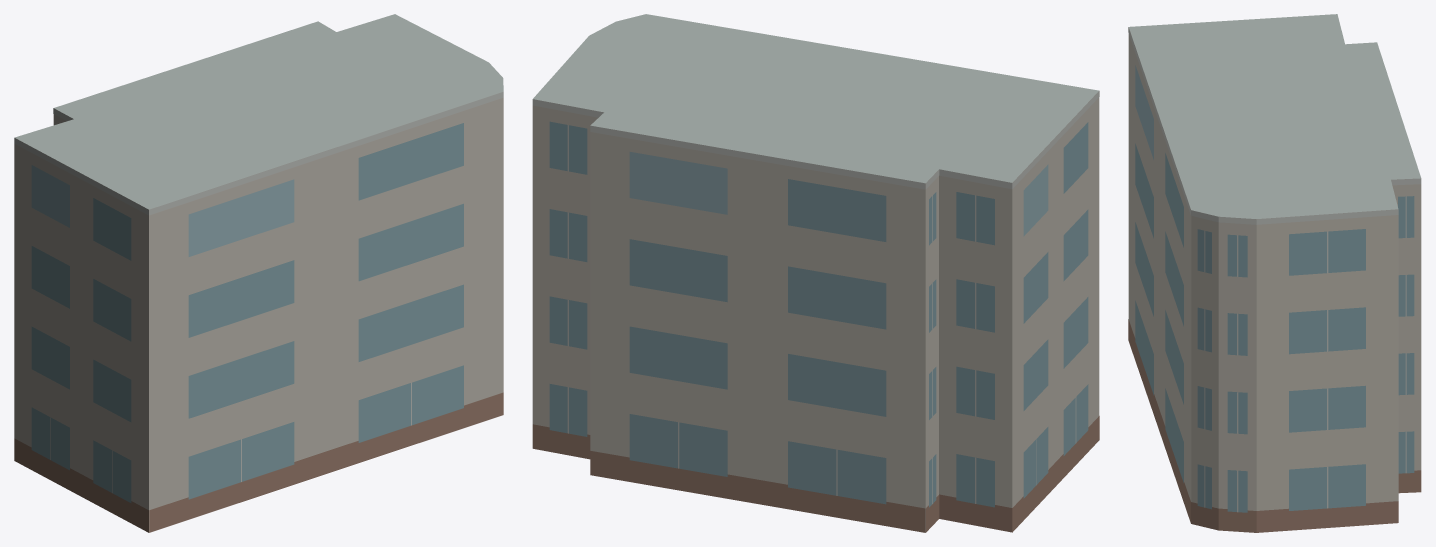
The model's file is survey-upis-32463707.glb.
3 views of the same model, side by side, from view 1: azimuth 30°, elevation 25°; view 2: azimuth 150°, elevation 25°; view 3: azimuth 270°, elevation 25° (orthographic). The views are drawn at different scales.
Parts seen in each view (by area): view 1: survey-upis-32463707.tmp; view 2: survey-upis-32463707.tmp; view 3: survey-upis-32463707.tmp.
Boxes of the visible parts, x1,y1,x2,y2 form: survey-upis-32463707.tmp: [14, 14, 503, 532]; survey-upis-32463707.tmp: [532, 14, 1099, 532]; survey-upis-32463707.tmp: [1128, 14, 1421, 532].
Bounding box in the file's own units: 18.8 × 13.4 × 11.35.
